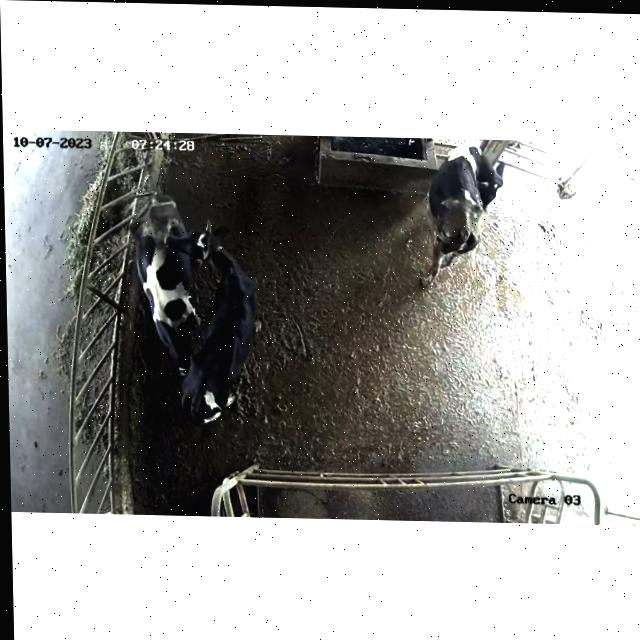propping: (140, 214, 239, 273)
